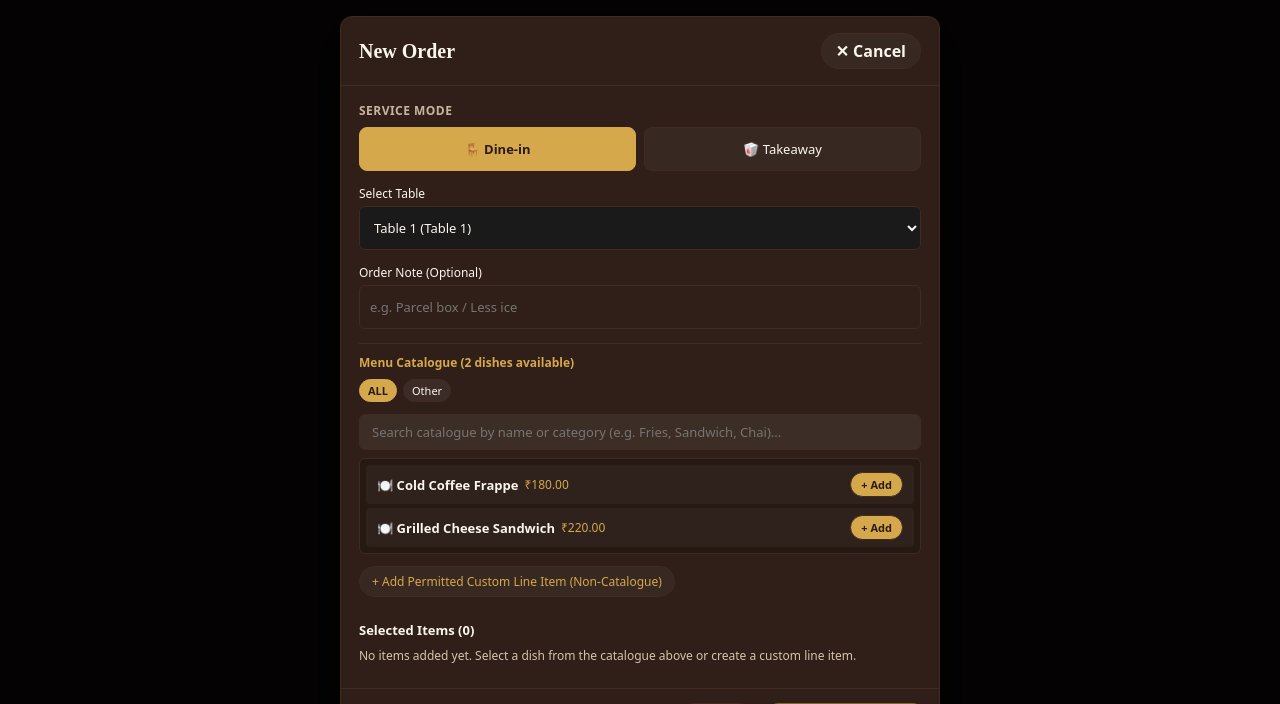
Scenario: Pre-Deployment QA & Release Readiness Test Suite › Manual & Custom Orders Across Service Modes › supports Dine-in and Takeaway service modes in ManualOrderModal
This screenshot has width=1280, height=704.
Expected: the button "🪑 Dine-in" is shown, [359,127,636,171]
Expected: the text "Select Table" is shown, [359,185,425,202]
Note: Switch to Takeaway mode: table selection is omitted
Click the button "🥡 Takeaway" at (782, 149), box [644,127,921,171]
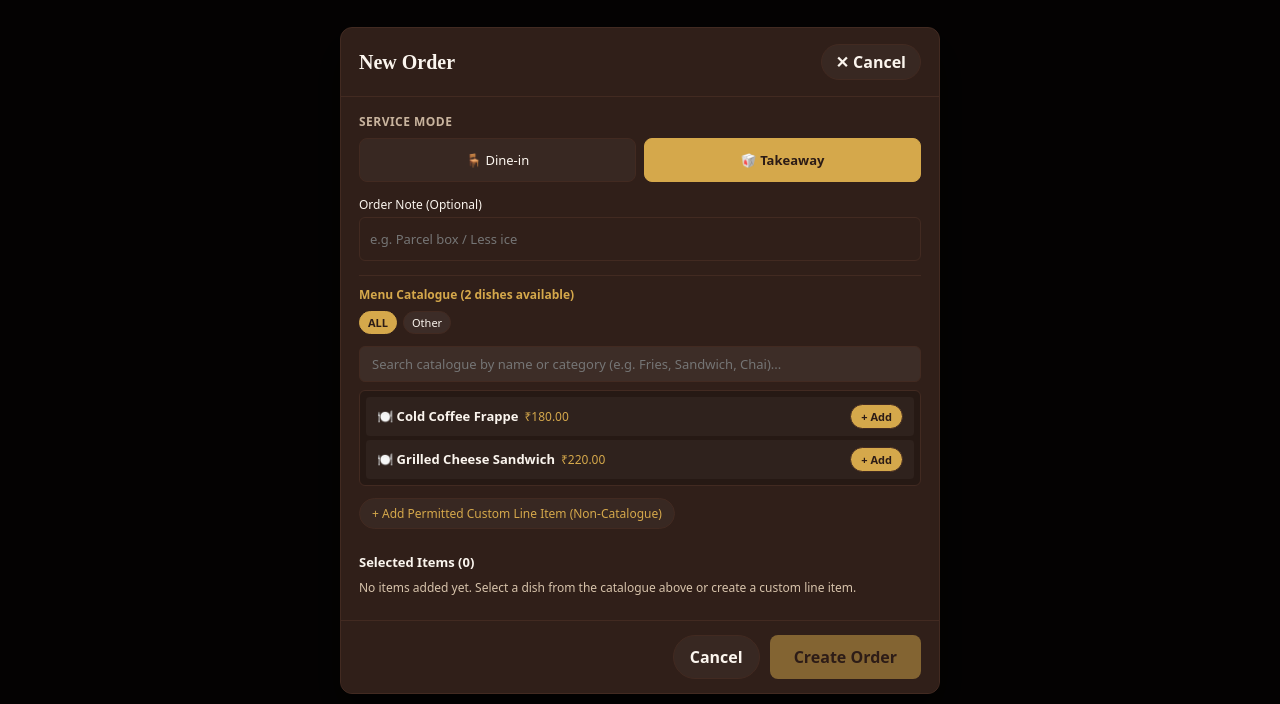
Expected: the text "Select Table" is gone
Note: Switch back to Dine-in: table selection is restored
Click the button "🪑 Dine-in" at (498, 160), box [359,138,636,182]
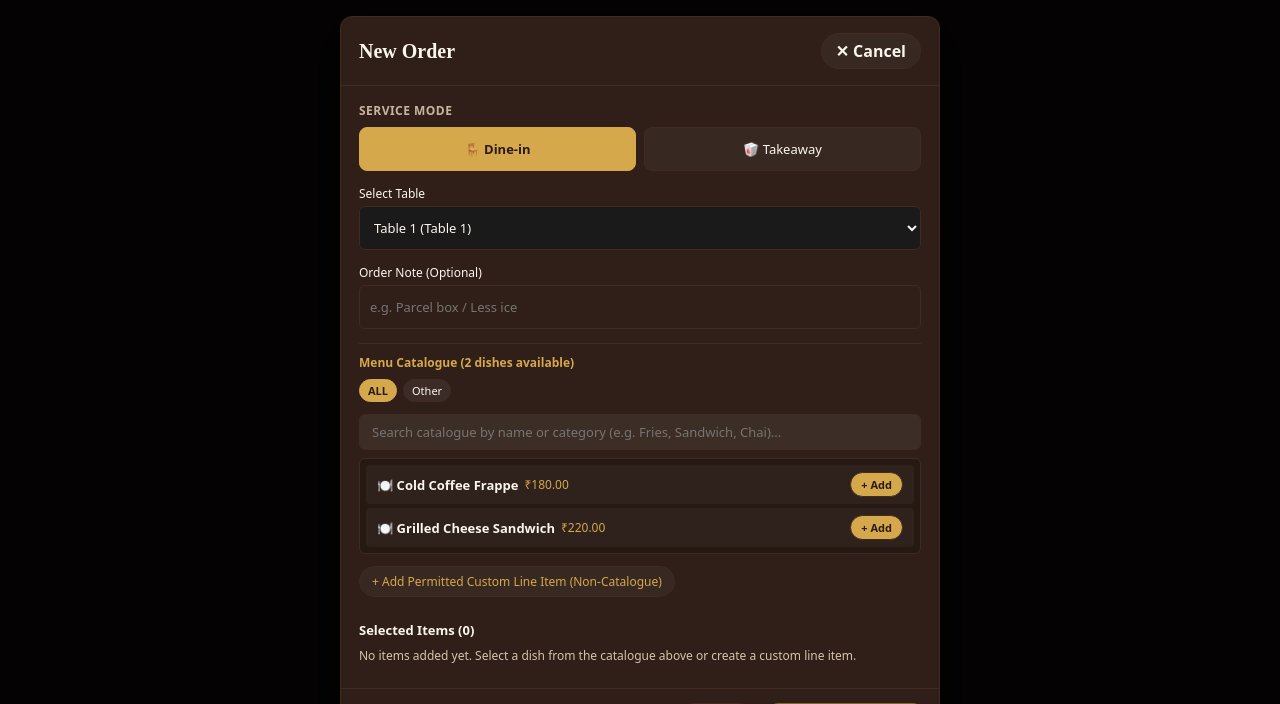
Expected: the text "Select Table" is shown, [359,185,425,202]
